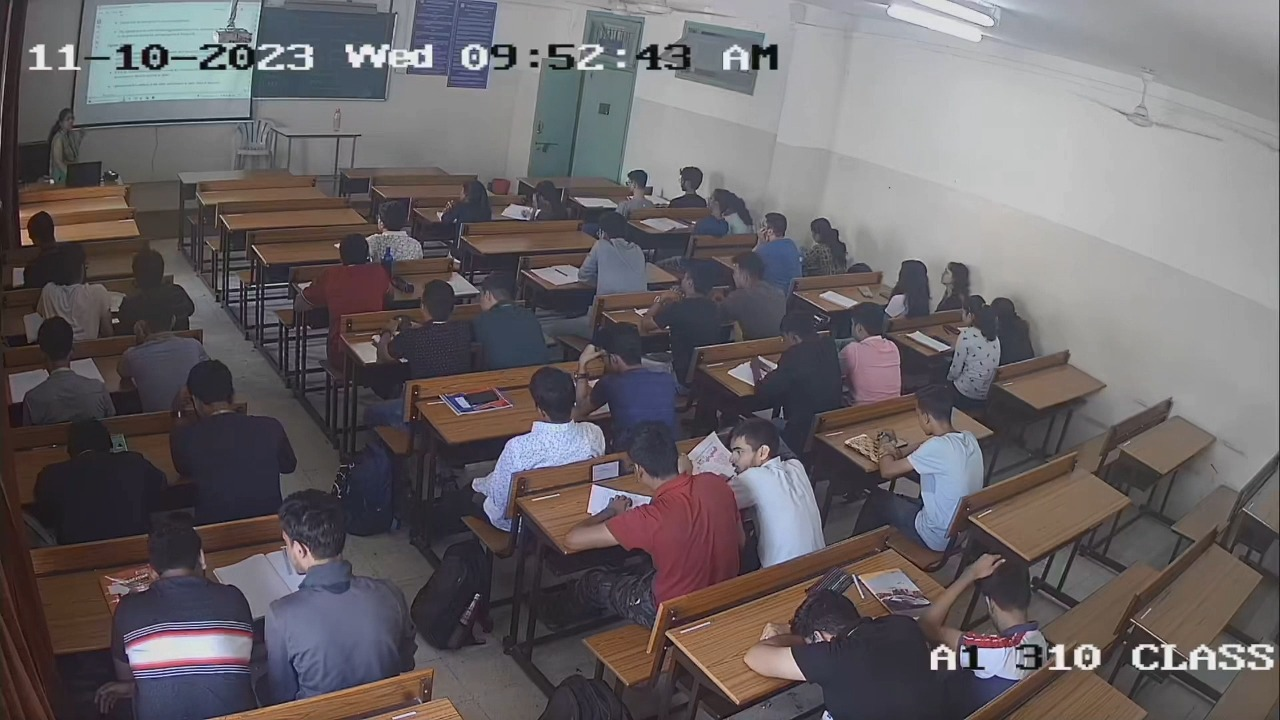cell-phones: (589, 459, 621, 483), (464, 389, 499, 406)
person: (605, 419, 746, 602), (494, 365, 606, 477)
